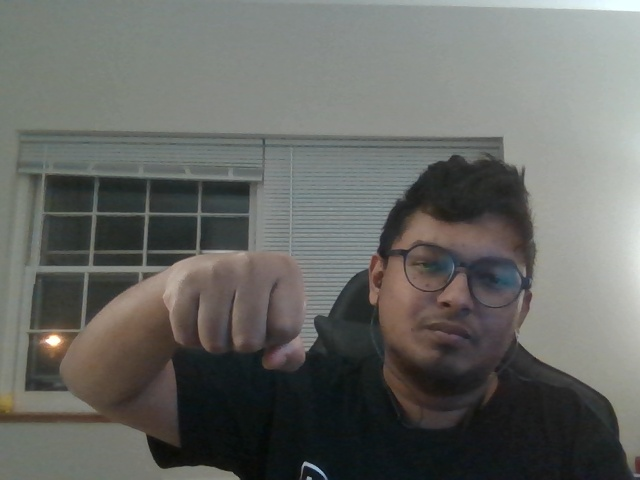yes: (139, 219, 330, 401)
